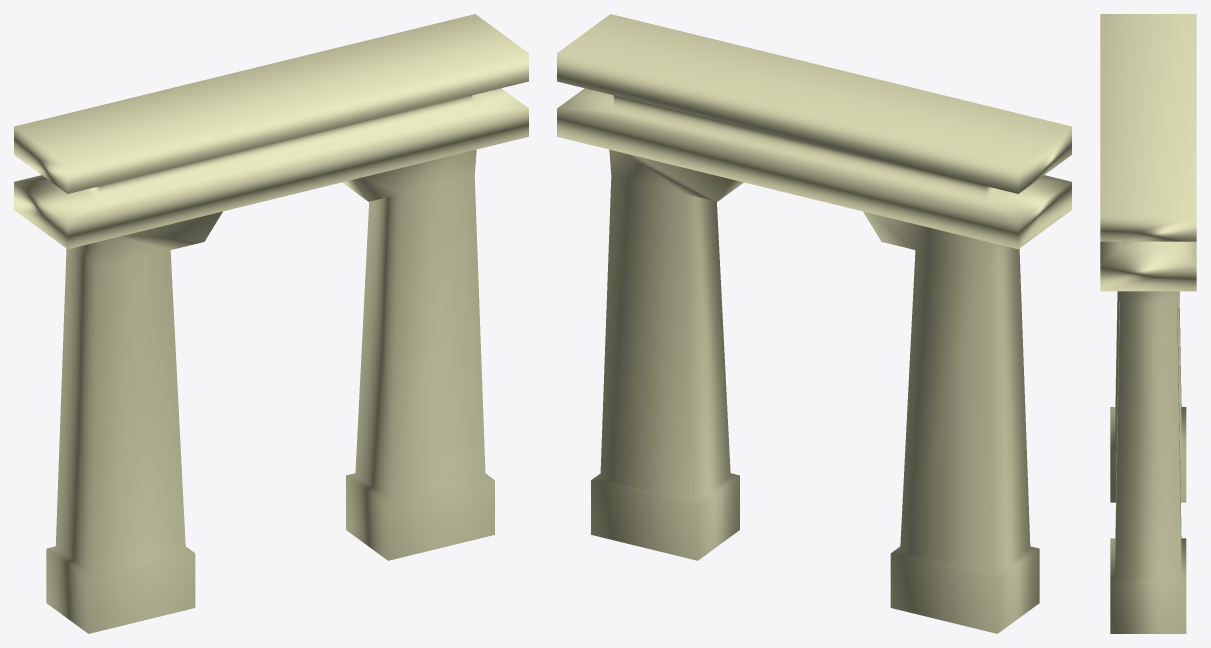
The model's file is Arch1.fbx.
3 views of the same model, side by side, from view 1: azimuth 30°, elevation 25°; view 2: azimuth 150°, elevation 25°; view 3: azimuth 270°, elevation 25° (orthographic). The views are drawn at different scales.
Visible parts, largest first — view 1: Arch1; view 2: Arch1; view 3: Arch1.
Boxes of the visible parts, left/top/right/bottom form: Arch1: left=14, top=14, right=528, bottom=633; Arch1: left=557, top=14, right=1071, bottom=633; Arch1: left=1100, top=14, right=1196, bottom=633.
Size of the model in its own units: 2.51 by 2.49 by 0.5052.
